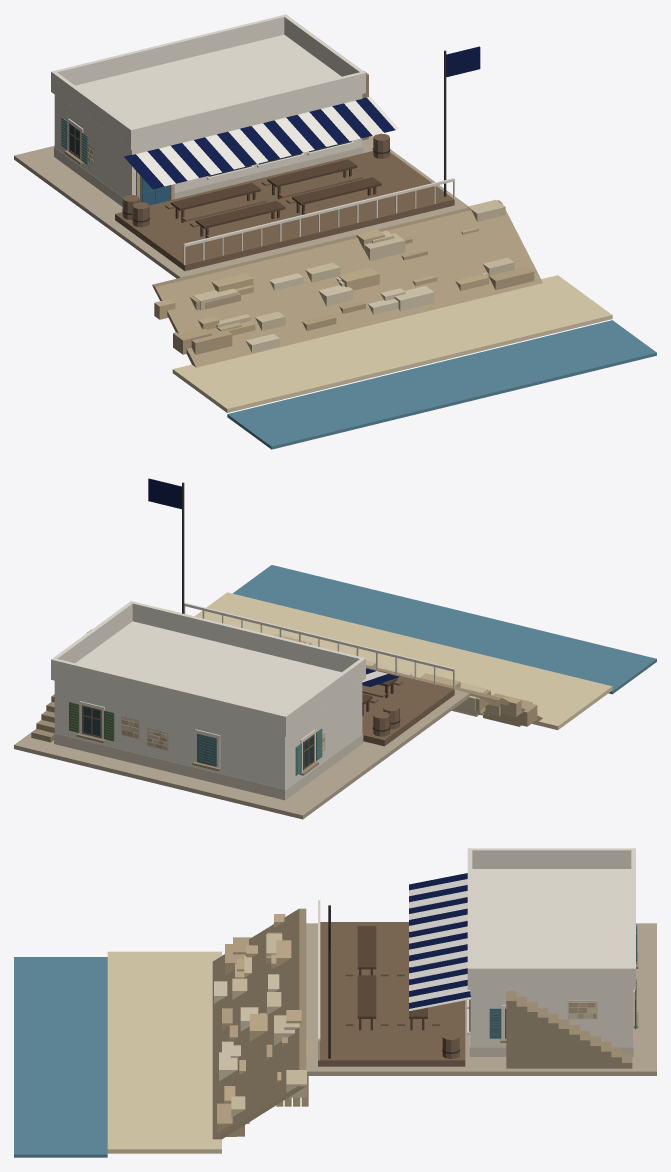
The model's file is taraftar-birahanesi.glb.
3 views of the same model, one above another, from view 1: azimuth 30°, elevation 25°; view 2: azimuth 150°, elevation 25°; view 3: azimuth 270°, elevation 25° (orthographic). The views are drawn at different scales.
Visible parts, largest first — view 1: tas_koyu, kum, deniz, ahsap, korkuluk, dam, zemin, lacivert, badana, krem, ahsap_koyu, tas2 (+4 smaller); view 2: deniz, korkuluk, badana, kum, dam, zemin, ahsap, badana_kir, tas_koyu, lacivert, tas2, tas3 (+4 smaller); view 3: kum, deniz, tas_koyu, dam, ahsap, korkuluk, zemin, badana, lacivert, krem, tas2, tas1 (+6 smaller).
Boxes of the visible parts, x1=… form: tas_koyu: x1=64, y1=71, x2=542, y2=367; kum: x1=172, y1=275, x2=612, y2=412; deniz: x1=227, y1=320, x2=656, y2=449; ahsap: x1=69, y1=123, x2=454, y2=270; korkuluk: x1=51, y1=14, x2=454, y2=264; dam: x1=51, y1=34, x2=365, y2=150; zemin: x1=14, y1=136, x2=467, y2=278; lacivert: x1=124, y1=46, x2=480, y2=189; badana: x1=54, y1=94, x2=362, y2=197; krem: x1=136, y1=96, x2=399, y2=186; ahsap_koyu: x1=140, y1=159, x2=381, y2=238; tas2: x1=88, y1=147, x2=489, y2=356; deniz: x1=233, y1=565, x2=656, y2=694; korkuluk: x1=51, y1=601, x2=454, y2=734; badana: x1=54, y1=681, x2=362, y2=790; kum: x1=194, y1=592, x2=612, y2=729; dam: x1=51, y1=621, x2=365, y2=736; zemin: x1=14, y1=690, x2=469, y2=819; ahsap: x1=82, y1=667, x2=454, y2=770; badana_kir: x1=54, y1=715, x2=363, y2=800; tas_koyu: x1=31, y1=629, x2=542, y2=775; lacivert: x1=148, y1=478, x2=398, y2=686; tas2: x1=122, y1=636, x2=521, y2=749; tas3: x1=122, y1=690, x2=537, y2=748; kum: x1=107, y1=951, x2=221, y2=1153; deniz: x1=14, y1=957, x2=107, y2=1157; tas_koyu: x1=212, y1=908, x2=638, y2=1139; dam: x1=467, y1=869, x2=635, y2=989; ahsap: x1=318, y1=922, x2=635, y2=1066; korkuluk: x1=318, y1=848, x2=635, y2=1060; zemin: x1=306, y1=923, x2=656, y2=1075; badana: x1=470, y1=990, x2=634, y2=1047; lacivert: x1=329, y1=873, x2=470, y2=1008; krem: x1=409, y1=879, x2=470, y2=1010; tas2: x1=224, y1=914, x2=586, y2=1136; tas1: x1=231, y1=934, x2=592, y2=1123.
Bounding box in the file's own units: 20 × 10.4 × 27.5.
